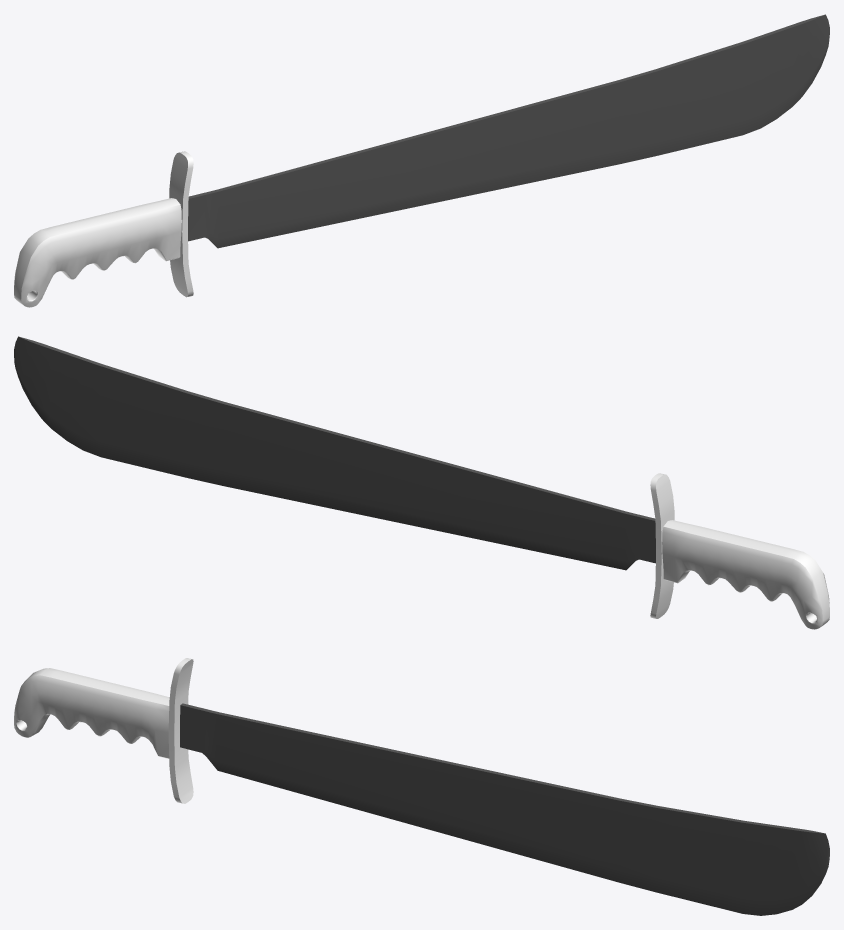
Rendered from Machete_Mesh.fbx.
3 views of the same model, one above another, from view 1: azimuth 30°, elevation 25°; view 2: azimuth 150°, elevation 25°; view 3: azimuth 330°, elevation 25° (orthographic).
Parts seen in each view (by area): view 1: Machete; view 2: Machete; view 3: Machete.
Boxes of the visible parts, x1=… form: Machete: x1=14, y1=14, x2=829, y2=307; Machete: x1=14, y1=336, x2=829, y2=629; Machete: x1=14, y1=658, x2=829, y2=915.
Size of the model in its own units: 0.6577 by 0.1088 by 0.0212.
